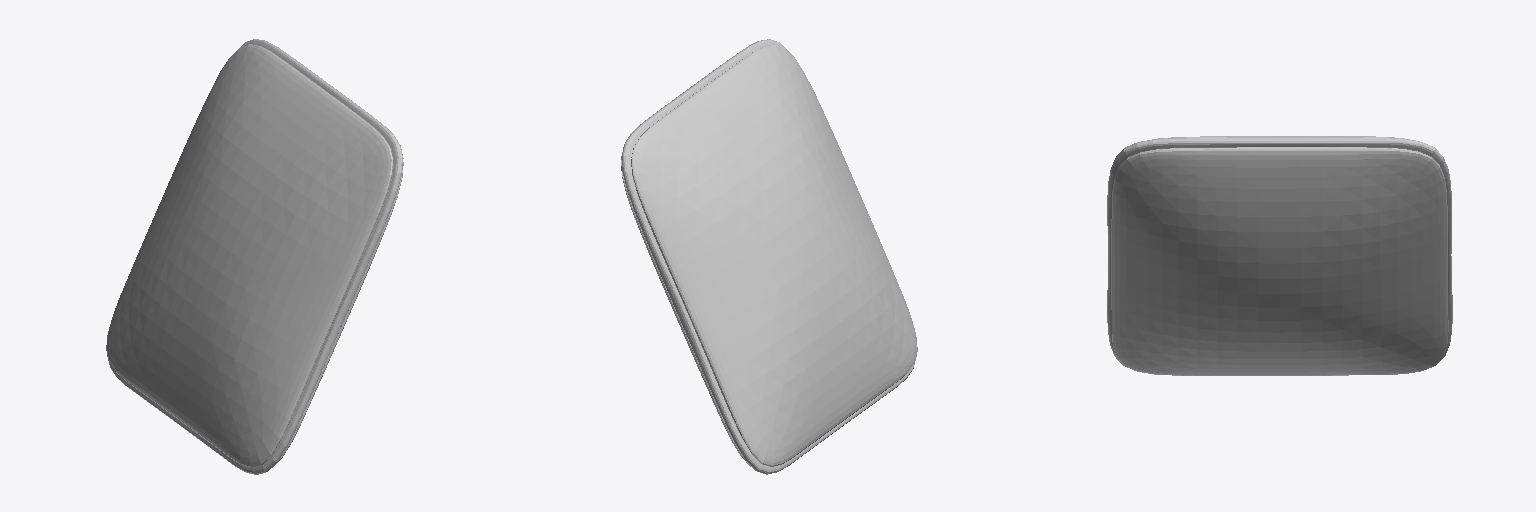
The model's file is housesp_020.obj.
3 views of the same model, side by side, from view 1: azimuth 30°, elevation 25°; view 2: azimuth 150°, elevation 25°; view 3: azimuth 270°, elevation 25° (orthographic).
Size of the model in its own units: 19.21 by 35.5 by 36.2.